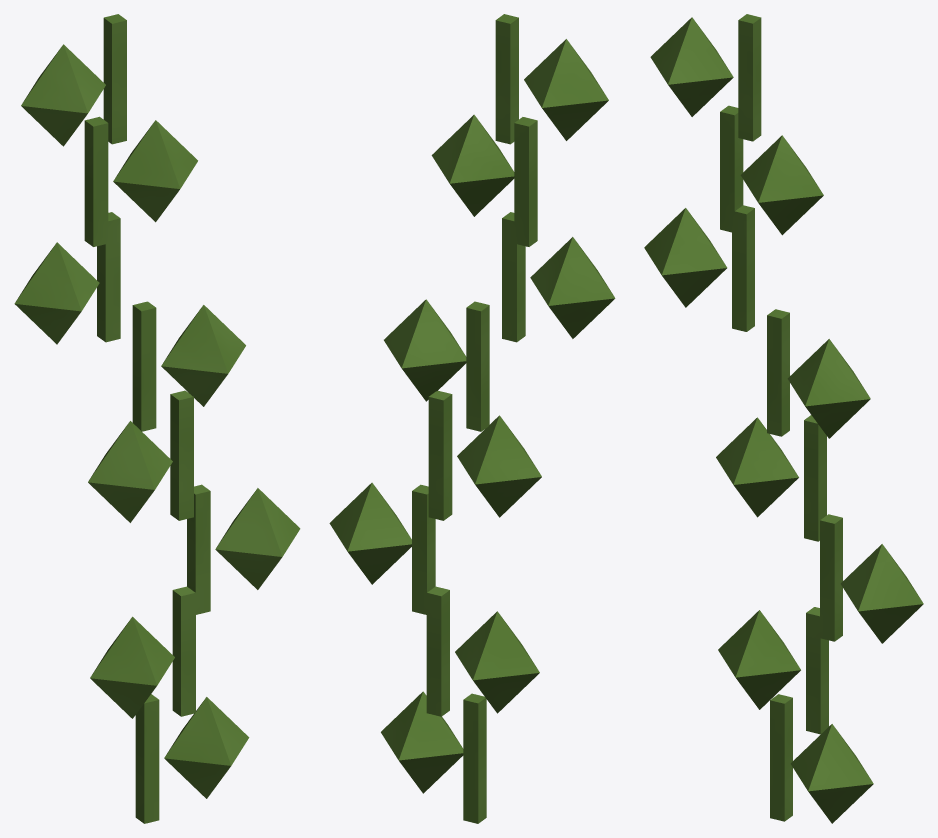
The model's file is vine.obj.
3 views of the same model, side by side, from view 1: azimuth 30°, elevation 25°; view 2: azimuth 150°, elevation 25°; view 3: azimuth 330°, elevation 25° (orthographic). The views are drawn at different scales.
Visible parts, largest first — view 1: vine; view 2: vine; view 3: vine.
Part boxes in pixels (x1,y1,x2,y2): vine: (14, 14, 300, 823); vine: (329, 14, 615, 823); vine: (644, 14, 923, 823).
Bounding box in the file's own units: 0.6708 × 1.81 × 0.2.
Materials: 1 (1 with a texture image).
